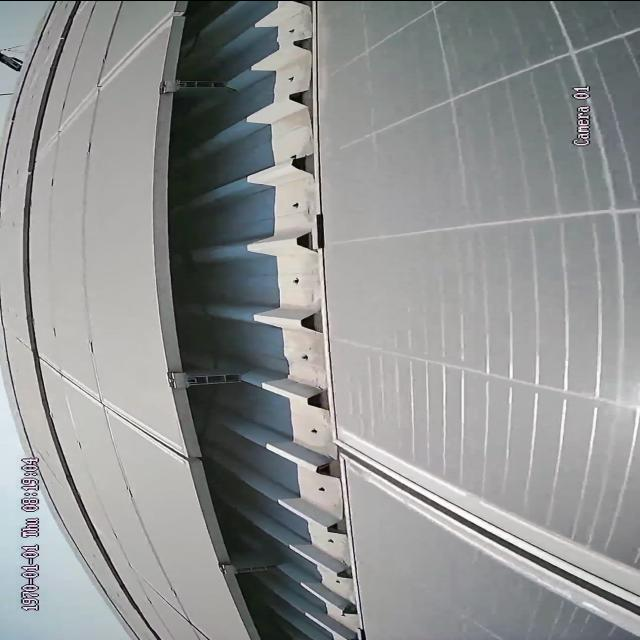interior panel: (358, 440, 640, 637), (46, 15, 160, 152), (46, 358, 181, 457)
outher panel: (158, 0, 364, 640)
